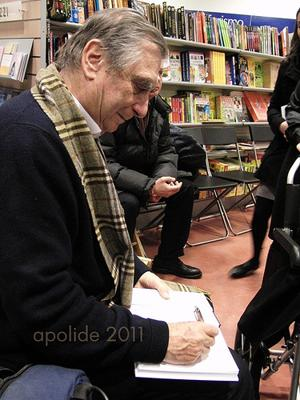person: (2, 13, 258, 398)
